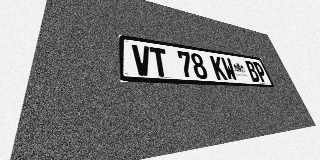7: (176, 51, 196, 78)
8: (189, 53, 209, 79)
B: (244, 60, 261, 82)
K: (209, 55, 228, 80)
P: (252, 62, 269, 82)
T: (149, 47, 170, 77)
V: (132, 44, 153, 76)
W: (220, 57, 238, 81)
